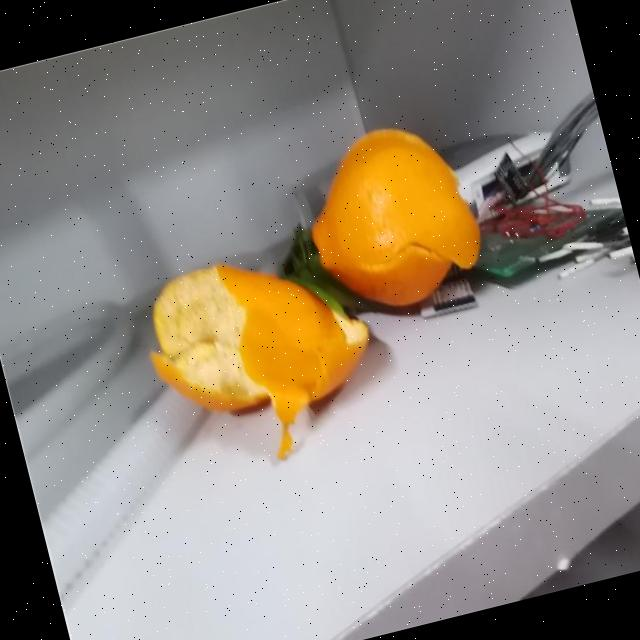orange-peel: (287, 108, 493, 324)
